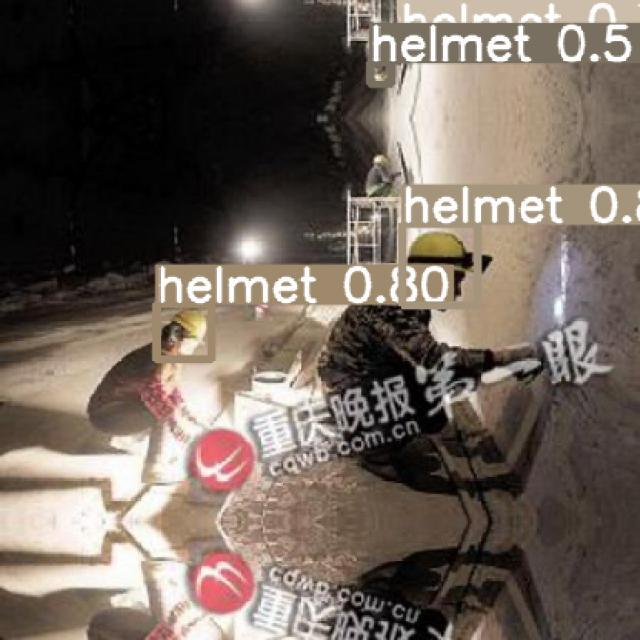Helmet: (406, 230, 492, 274)
